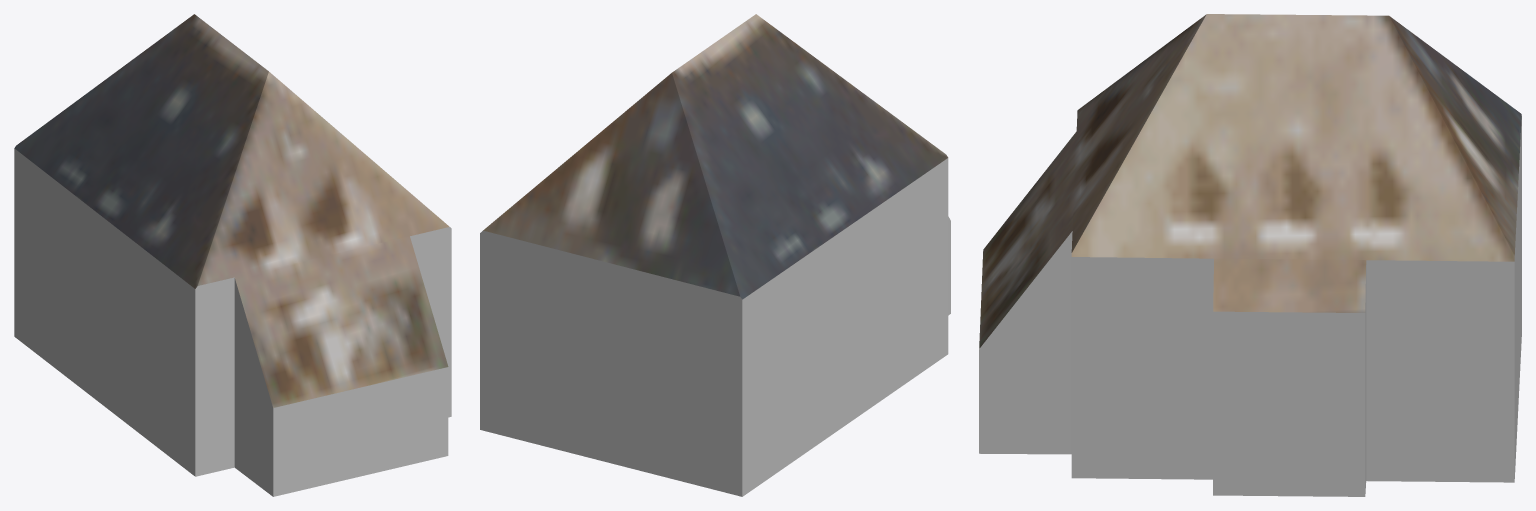
The model's file is DEBW_0010007Txeh.gltf.
The picture shows the model from 3 angles, left to right: view 1: azimuth 30°, elevation 25°; view 2: azimuth 150°, elevation 25°; view 3: azimuth 270°, elevation 25°; orthographic projection. The views are drawn at different scales.
Visible parts, largest first — view 1: Z_UP; view 2: Z_UP; view 3: Z_UP.
Part boxes in pixels (<box>): Z_UP: <box>14,14,451,496</box>; Z_UP: <box>480,14,950,496</box>; Z_UP: <box>979,14,1521,496</box>.
Bounding box in the file's own units: 12.45 × 13.86 × 17.37.
Materials: 2 (1 with a texture image).
